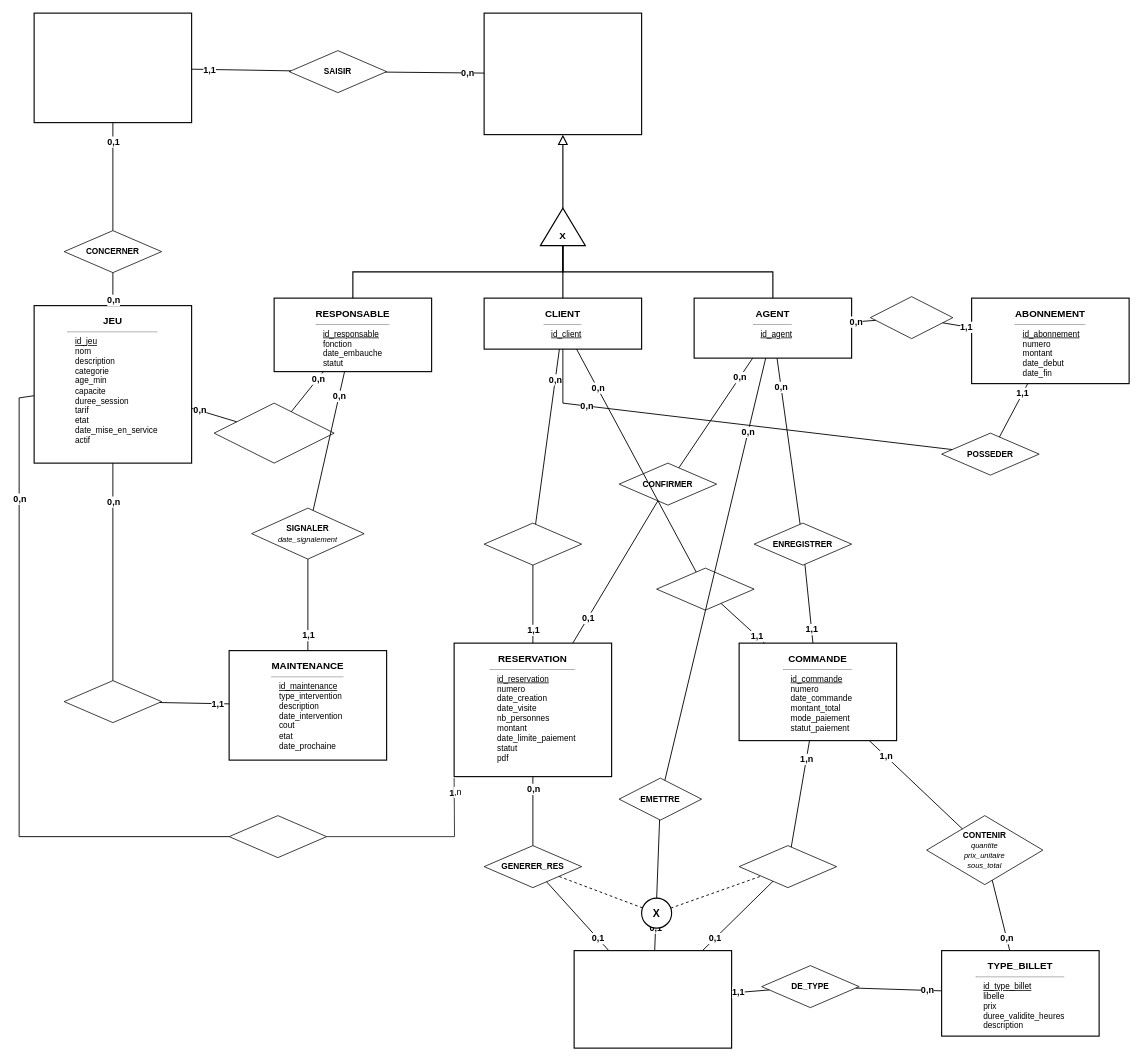
The diagram is 1142 pixels wide and 1062 high, and some of its shapes have lost their labels. Each missing label, with the centre of its shape:
AFFECTER date_debut date_fin: point 273,432
BILLET id_billet code utilise date_utilisation date_expiration pdf: point 652,999
CHOISIR: point 277,836
CREER: point 911,317
DEPENSE id_depense categorie description montant date_depense type justificatif: point 112,67
GENERER_COM: point 787,866
PASSER: point 705,588
RESERVER: point 532,543
SUBIR: point 112,701
UTILISATEUR id_utilisateur nom prenom telephone email mot_de_passe role actif: point 562,73
